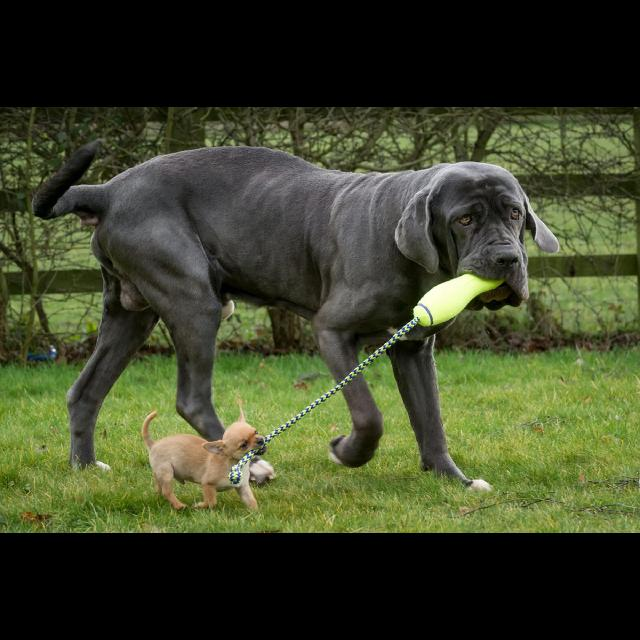mastino_napoletano: (32, 139, 561, 495)
other_dog_breed: (142, 407, 277, 513)
